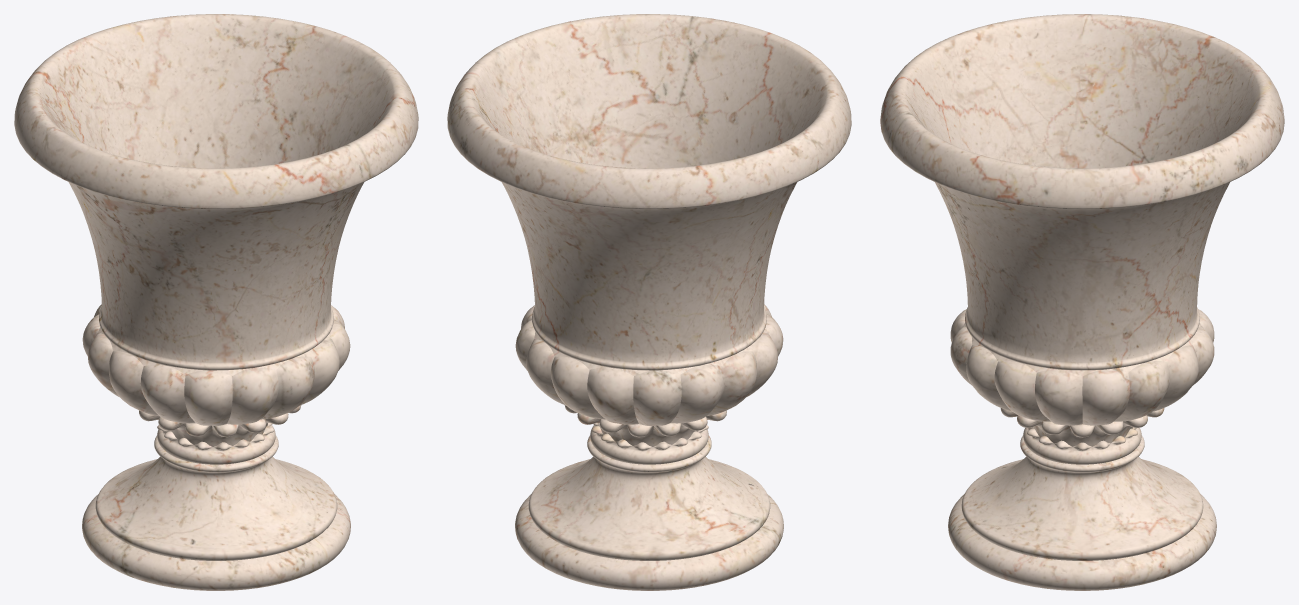
File: MarbleVase0022.obj
3 views of the same model, side by side, from view 1: azimuth 30°, elevation 25°; view 2: azimuth 150°, elevation 25°; view 3: azimuth 270°, elevation 25° (orthographic).
Visible parts, largest first — view 1: Marble_Vase_002_Solid; view 2: Marble_Vase_002_Solid; view 3: Marble_Vase_002_Solid.
Boxes of the visible parts, bbox=[...] form: Marble_Vase_002_Solid: bbox=[14, 14, 418, 590]; Marble_Vase_002_Solid: bbox=[447, 14, 851, 590]; Marble_Vase_002_Solid: bbox=[880, 14, 1284, 590].
Bounding box in the file's own units: 0.5571 × 0.679 × 0.5571.
1 material, 1 textured.
